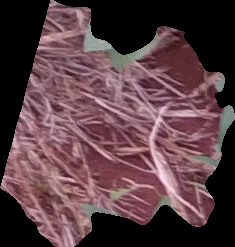soil: (3, 1, 233, 245)
